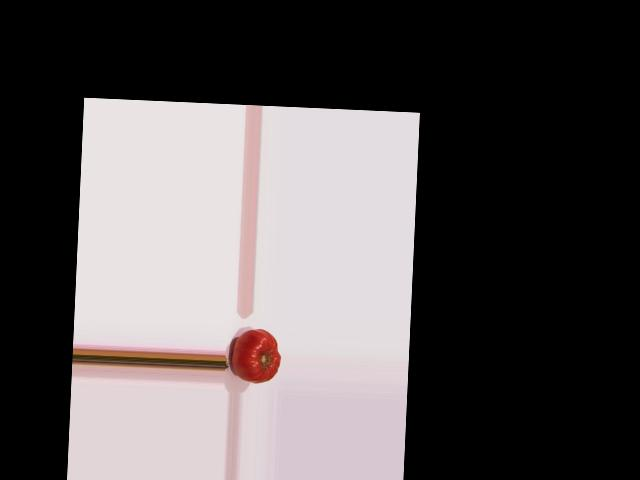tomato: (231, 328, 281, 383)
